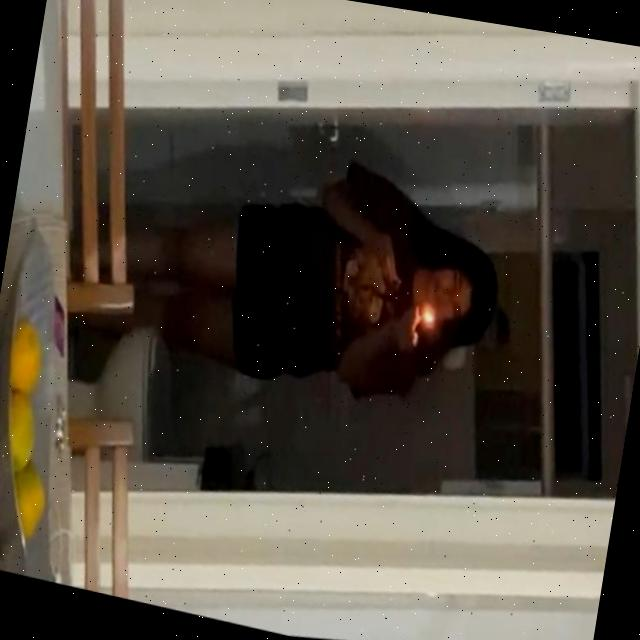fire: (417, 304, 443, 336)
